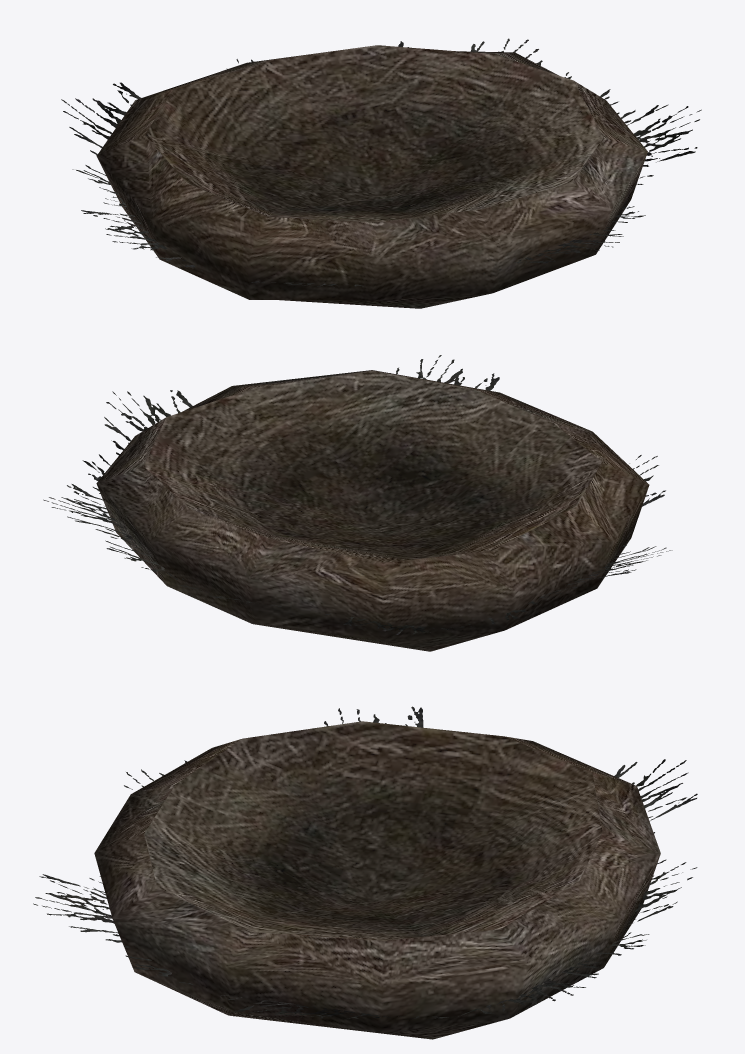
File: KM_VOB_HARPY_NEST_01.glb
3 views of the same model, one above another, from view 1: azimuth 30°, elevation 25°; view 2: azimuth 150°, elevation 25°; view 3: azimuth 270°, elevation 25° (orthographic). The views are drawn at different scales.
Visible parts, largest first — view 1: Mesh; view 2: Mesh; view 3: Mesh.
Boxes of the visible parts, x1,y1,x2,y2 form: Mesh: (61, 38, 701, 308); Mesh: (43, 355, 672, 651); Mesh: (33, 706, 697, 1039).
Bounding box in the file's own units: 3.22 × 0.5378 × 2.86.
Materials: 1 (1 with a texture image).
